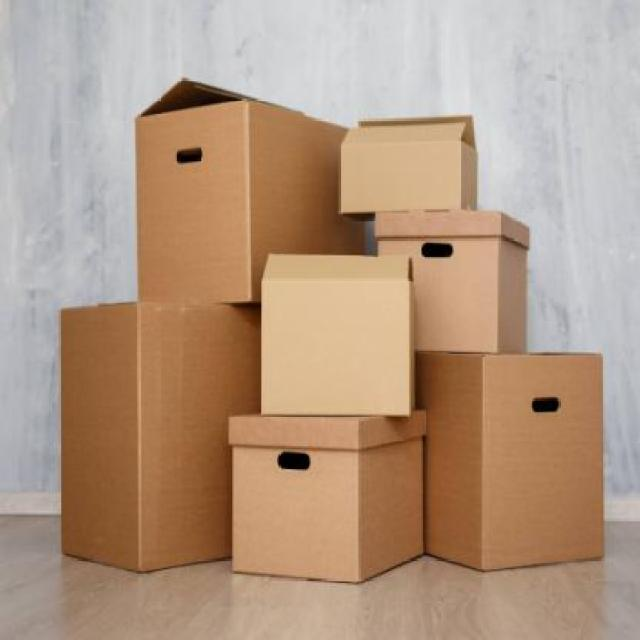box: (58, 298, 267, 570), (128, 70, 362, 300), (410, 352, 606, 574), (233, 418, 431, 586), (253, 252, 412, 416), (366, 206, 534, 354), (339, 114, 479, 215)
